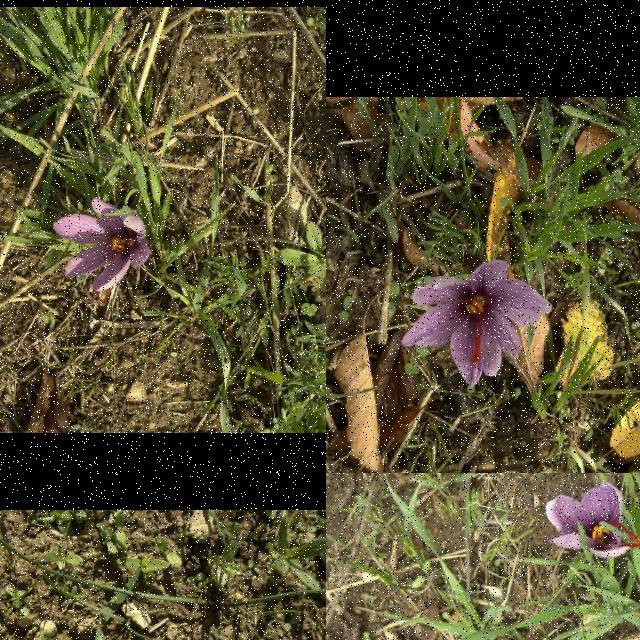flower: (401, 261, 553, 387), (52, 198, 150, 292), (545, 481, 640, 558)
